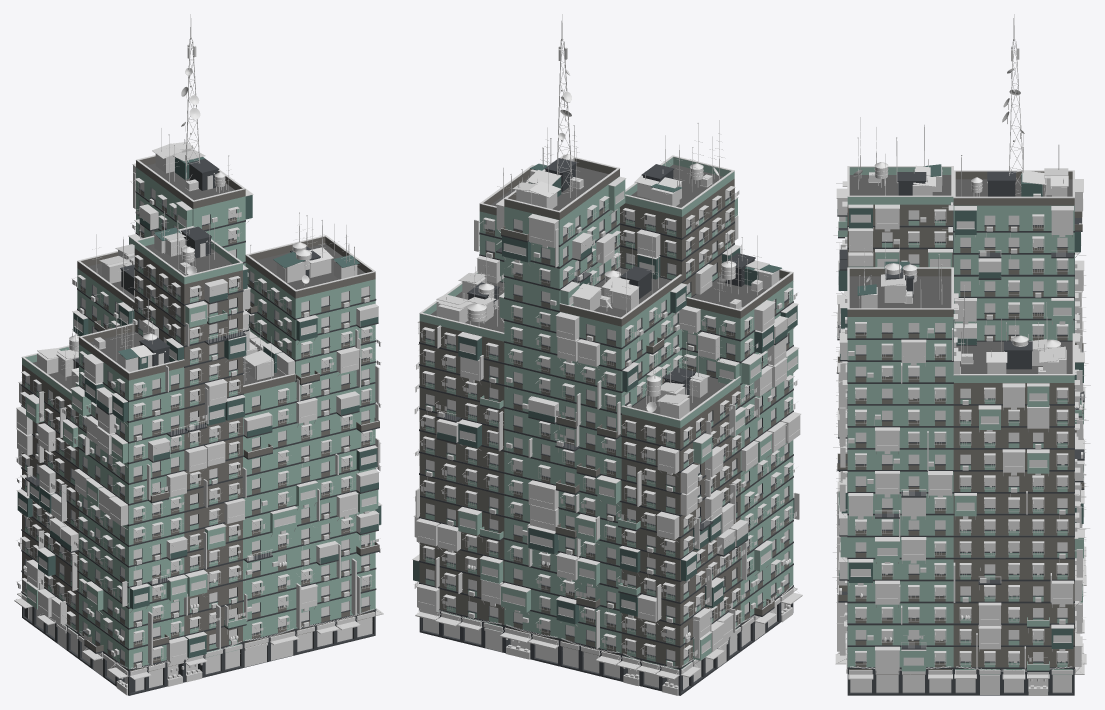
The model's file is LM_KS_TheStack.fbx.
The picture shows the model from 3 angles, left to right: view 1: azimuth 30°, elevation 25°; view 2: azimuth 150°, elevation 25°; view 3: azimuth 270°, elevation 25°; orthographic projection. The views are drawn at different scales.
Visible parts, largest first — view 1: LM_KS_TheStack_LOD0; view 2: LM_KS_TheStack_LOD0; view 3: LM_KS_TheStack_LOD0.
Boxes of the visible parts, x1,y1,x2,y2 form: LM_KS_TheStack_LOD0: [14, 14, 383, 695]; LM_KS_TheStack_LOD0: [412, 14, 802, 695]; LM_KS_TheStack_LOD0: [831, 14, 1090, 695].
Size of what is drawn, in the model's own units: 44.09 by 91.36 by 34.34.
